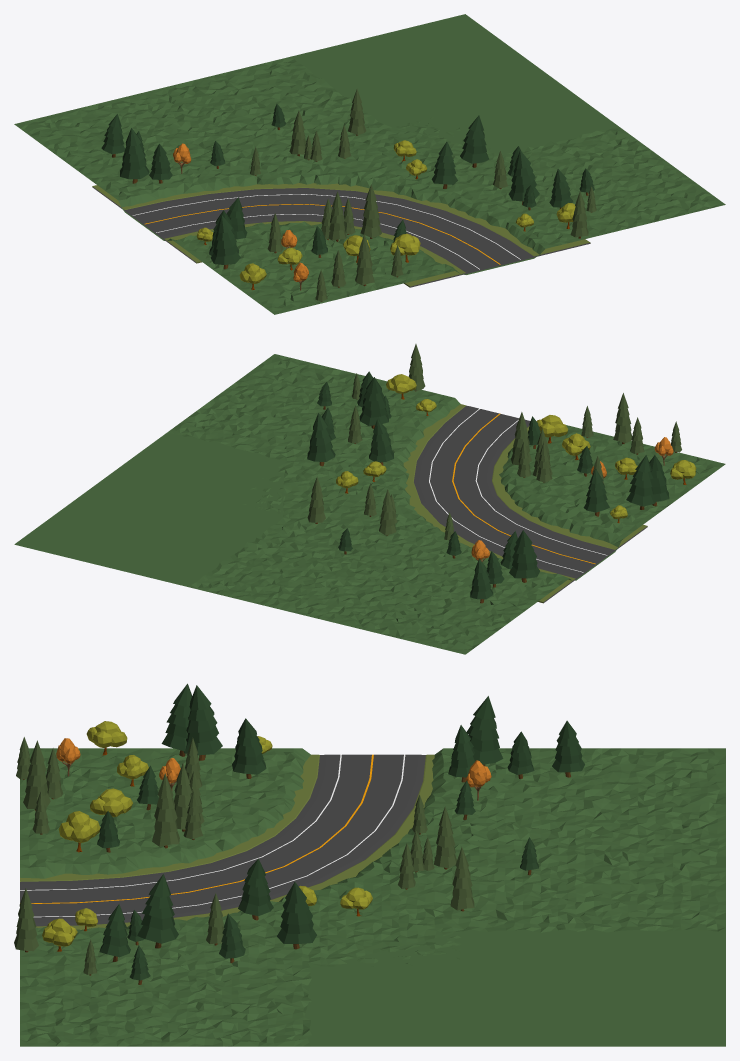
Rendered from ForestRoadRight.fbx.
3 views of the same model, one above another, from view 1: azimuth 30°, elevation 25°; view 2: azimuth 150°, elevation 25°; view 3: azimuth 270°, elevation 25° (orthographic). The views are drawn at different scales.
Parts seen in each view (by area): view 1: FRRPlane, FRRRoad, FRRPlane|pineTree04|Dupli|44, FRRPlane|pineTree04|Dupli|27, FRRPlane|pineTree04|Dupli|29, FRRPlane|pineTree04|Dupli|11, FRRPlane|pineTree04|Dupli|28, FRRPlane|pineTree05|Dupli|21, FRRPlane|pineTree05|Dupli|7, FRRPlane|pineTree04|Dupli|47, FRRPlane|pineTree05|Dupli|24, FRRPlane|pineTree04|Dupli|43 (+6 smaller); view 2: FRRPlane, FRRRoad, FRRPlane|pineTree04|Dupli|44, FRRPlane|pineTree04|Dupli|26, FRRPlane|pineTree04|Dupli|11, FRRPlane|pineTree04|Dupli|29, FRRPlane|pineTree04|Dupli|28, FRRPlane|pineTree04|Dupli|31, FRRPlane|pineTree04|Dupli|47, FRRPlane|pineTree05|Dupli|7, FRRPlane|pineTree04|Dupli|27, FRRPlane|pineTree05|Dupli|21 (+3 smaller); view 3: FRRPlane, FRRRoad, FRRPlane|pineTree04|Dupli|11, FRRPlane|pineTree04|Dupli|26, FRRPlane|pineTree04|Dupli|29, FRRPlane|pineTree04|Dupli|44, FRRPlane|pineTree04|Dupli|31, FRRPlane|pineTree04|Dupli|28, FRRPlane|pineTree05|Dupli|21, FRRPlane|pineTree04|Dupli|27, FRRPlane|pineTree04|Dupli|47, FRRPlane|pineTree05|Dupli|7 (+18 smaller).
Part boxes in pixels (x1,y1,x2,y2): FRRPlane: (14,14,725,314); FRRRoad: (92,183,590,287); FRRPlane|pineTree04|Dupli|44: (120,128,149,183); FRRPlane|pineTree04|Dupli|27: (210,215,240,269); FRRPlane|pineTree04|Dupli|29: (460,115,489,167); FRRPlane|pineTree04|Dupli|11: (508,150,539,204); FRRPlane|pineTree04|Dupli|28: (431,141,457,188); FRRPlane|pineTree05|Dupli|21: (360,184,381,238); FRRPlane|pineTree05|Dupli|7: (355,234,374,286); FRRPlane|pineTree04|Dupli|47: (101,114,125,157); FRRPlane|pineTree05|Dupli|24: (328,191,346,241); FRRPlane|pineTree04|Dupli|43: (149,143,172,183); FRRPlane: (14,354,725,654); FRRRoad: (403,404,647,603); FRRPlane|pineTree04|Dupli|44: (509,530,539,582); FRRPlane|pineTree04|Dupli|26: (626,455,655,509); FRRPlane|pineTree04|Dupli|11: (359,377,388,428); FRRPlane|pineTree04|Dupli|29: (307,413,335,466); FRRPlane|pineTree04|Dupli|28: (369,419,393,465); FRRPlane|pineTree04|Dupli|31: (583,468,609,516); FRRPlane|pineTree04|Dupli|47: (470,558,493,603); FRRPlane|pineTree05|Dupli|7: (613,393,632,443); FRRPlane|pineTree04|Dupli|27: (649,455,669,506); FRRPlane|pineTree05|Dupli|21: (511,412,531,465); FRRPlane: (20,748,725,1046); FRRRoad: (20,754,434,929); FRRPlane|pineTree04|Dupli|11: (137,874,178,948); FRRPlane|pineTree04|Dupli|26: (183,685,222,760); FRRPlane|pineTree04|Dupli|29: (277,882,316,949); FRRPlane|pineTree04|Dupli|44: (466,696,503,766); FRRPlane|pineTree04|Dupli|31: (232,718,266,778); FRRPlane|pineTree04|Dupli|28: (238,858,273,920); FRRPlane|pineTree05|Dupli|21: (152,773,179,848); FRRPlane|pineTree04|Dupli|27: (161,683,192,756); FRRPlane|pineTree04|Dupli|47: (552,720,584,777); FRRPlane|pineTree05|Dupli|7: (23,740,50,810).
Size of what is drawn, in the model's own units: 20089 by 2686 by 20167.
